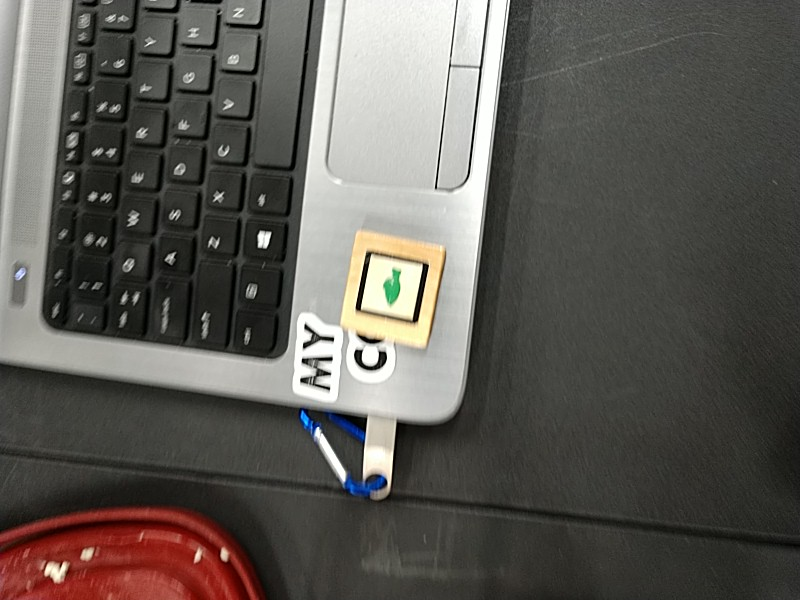Fish Tile: (356, 249, 430, 323)
